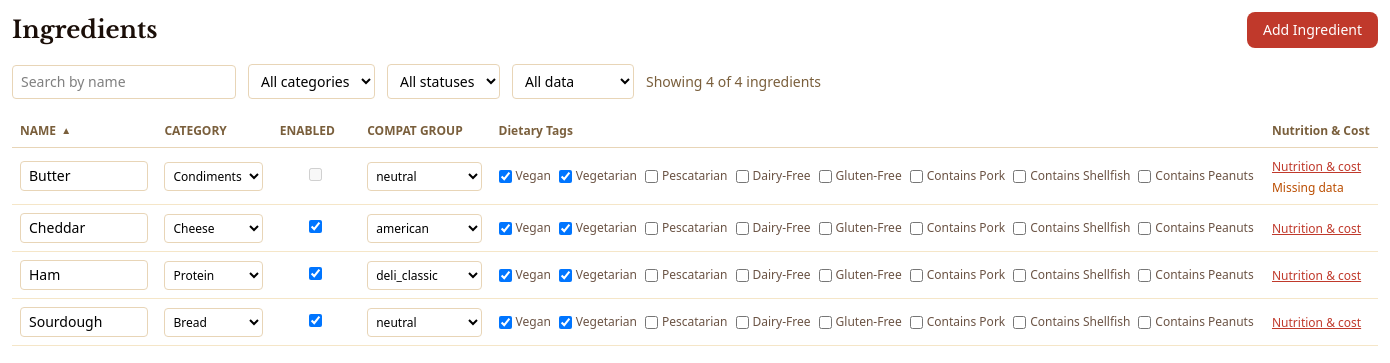
Test: IngredientsPage › sorting and filtering › searches by name without regard to case
The width and height of the screenshot is (1390, 363).
Expected: the field showing "Sourdough" is shown, x1=20 y1=307 x2=148 y2=337
Type "CH" into the search field named "Search ingredients".
click(124, 82); type("CH")  # box x1=12 y1=64 x2=236 y2=98
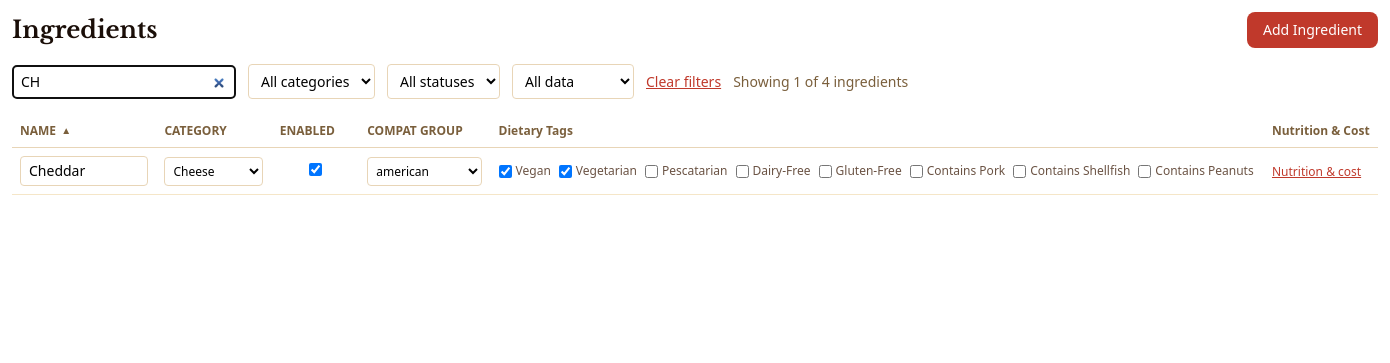
Now the text "Showing 1 of 4 ingredients" is shown, box x1=733 y1=72 x2=908 y2=92
